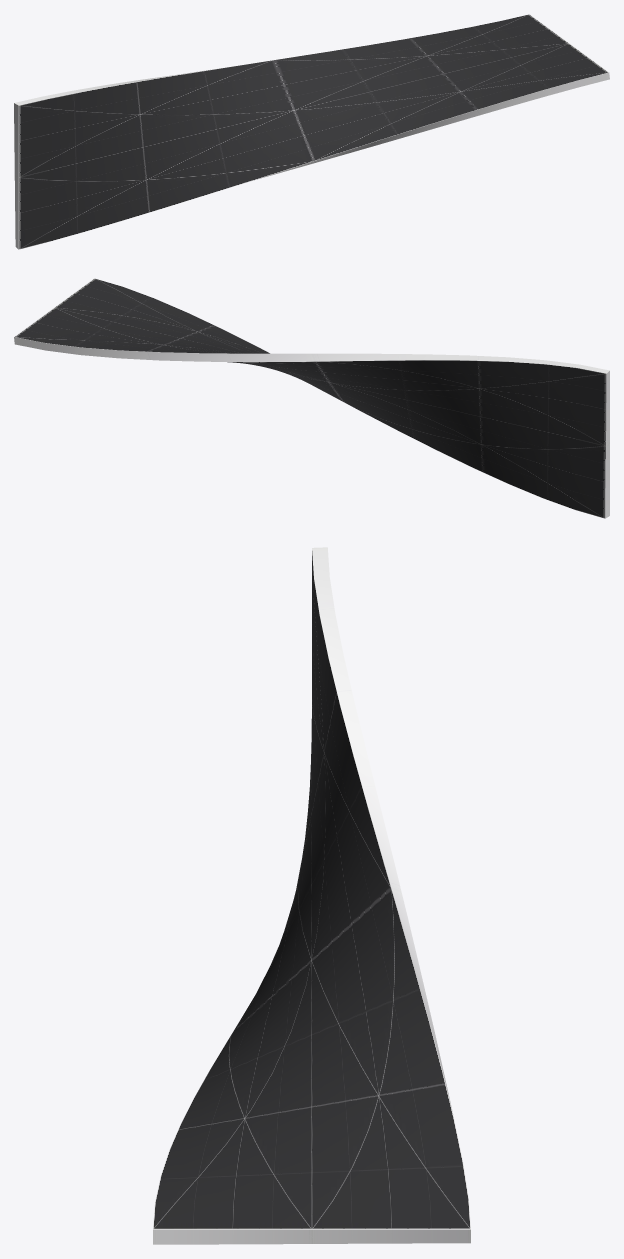
File: TiltTransitionLeftLong-transformed.glb
The picture shows the model from 3 angles, top to bottom: view 1: azimuth 30°, elevation 25°; view 2: azimuth 150°, elevation 25°; view 3: azimuth 270°, elevation 25°; orthographic projection. The views are drawn at different scales.
Parts seen in each view (by area): view 1: TiltTransitionLeftLong; view 2: TiltTransitionLeftLong; view 3: TiltTransitionLeftLong.
Part boxes in pixels (x1,y1,x2,y2): TiltTransitionLeftLong: (14,14,609,249); TiltTransitionLeftLong: (14,278,609,518); TiltTransitionLeftLong: (153,547,470,1244).
Size of the model in its own units: 40.11 by 10 by 10.
1 material, 1 textured.
